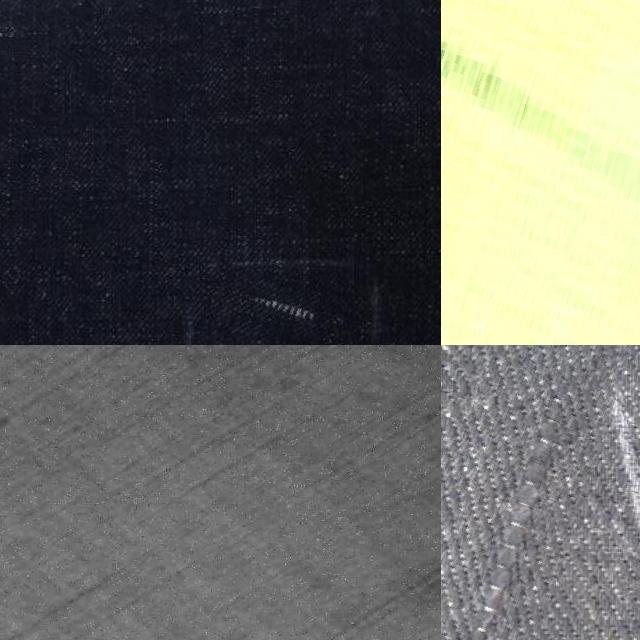Thread_other: (441, 0, 640, 345), (441, 345, 610, 640), (197, 269, 365, 345)
